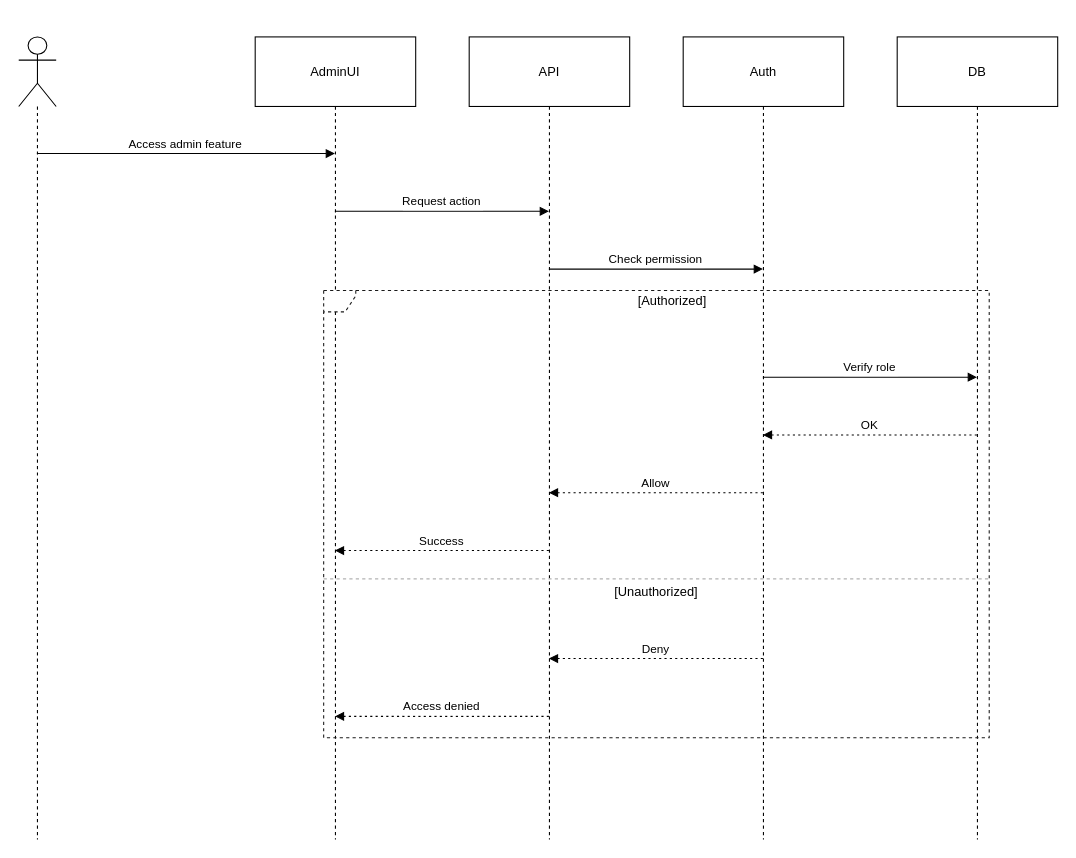
Image size: 1076x858. Some labels were removed from this diagram. Each missing label, with the box of its shape:
Admin: (18, 36, 56, 839)
alt: (323, 289, 989, 738)
